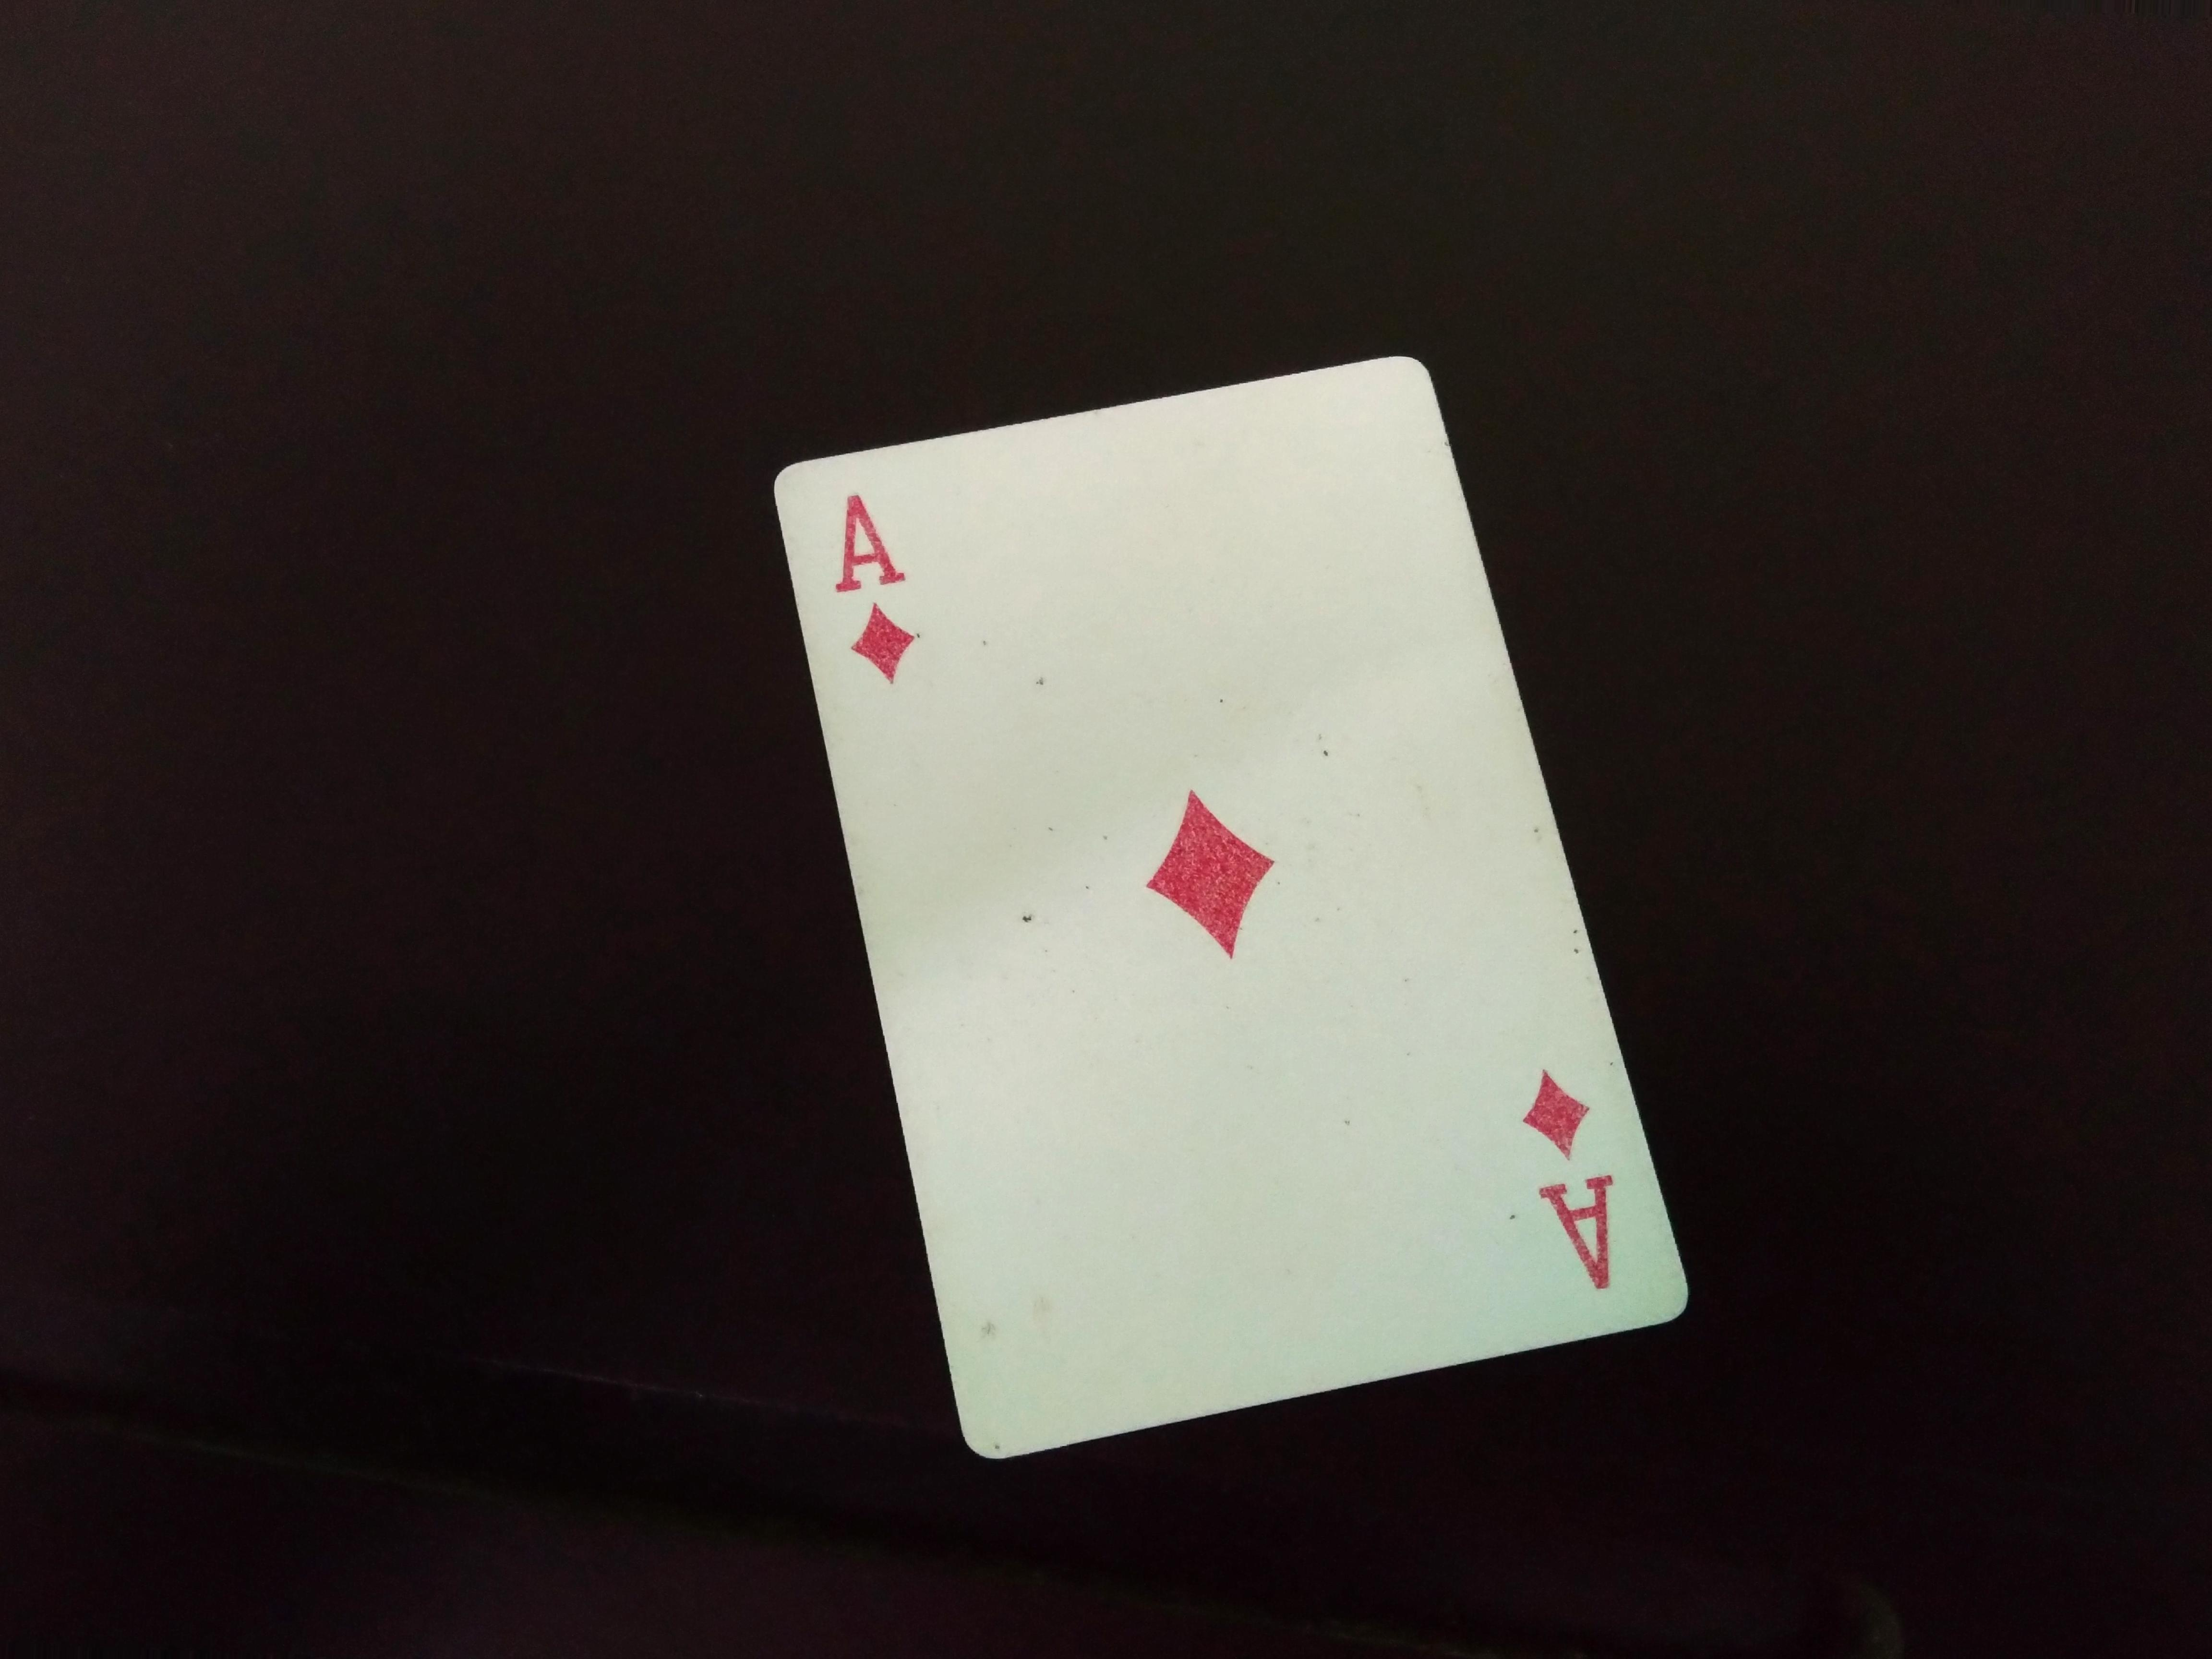AD: (826, 476, 928, 704)
